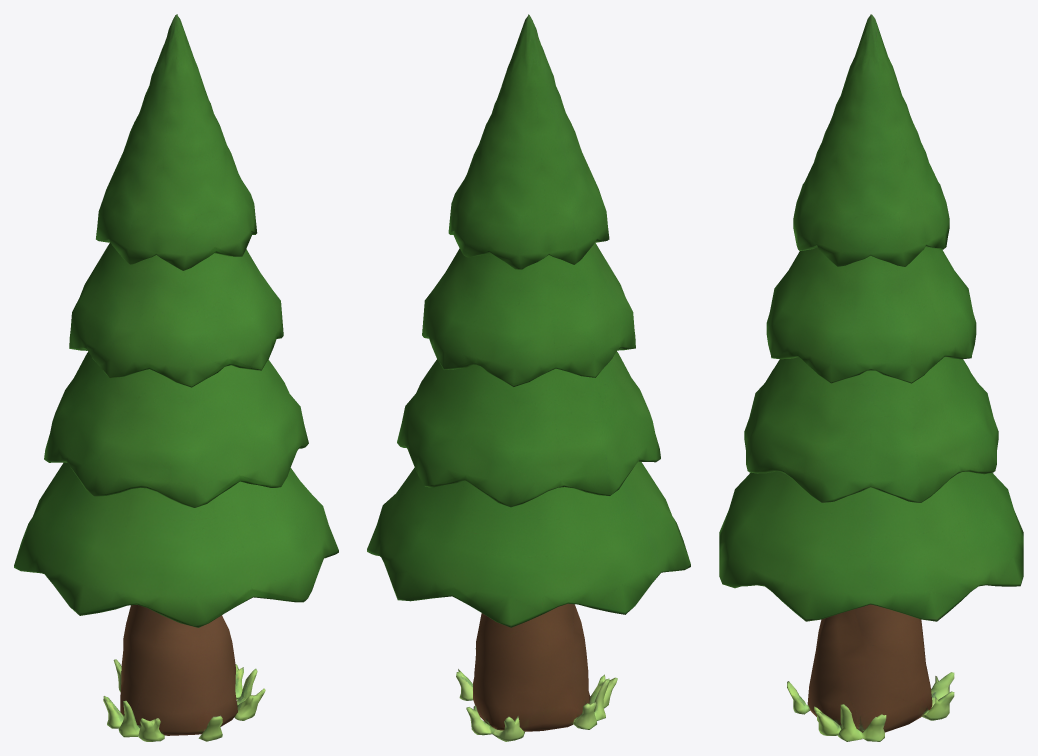
The model's file is tree_2.glb.
3 views of the same model, side by side, from view 1: azimuth 30°, elevation 25°; view 2: azimuth 150°, elevation 25°; view 3: azimuth 270°, elevation 25° (orthographic).
Bounding box in the file's own units: 0.7554 × 1.91 × 0.7554.
Materials: 1 (1 with a texture image).
